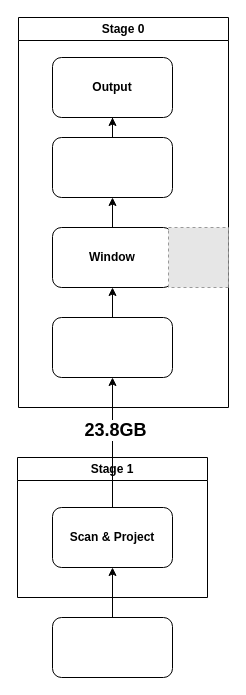
Some shapes in this 246 by 695 pixel diagram are drawn without their labels. Grey dashed boxes stand in for pictures. The shapes that lost their labels are listed below. From the top down, each one's centre as x and y in pixels, then its label:
pixel 112 167: Project
pixel 112 347: Local Exchange
pixel 112 647: PartSupp
